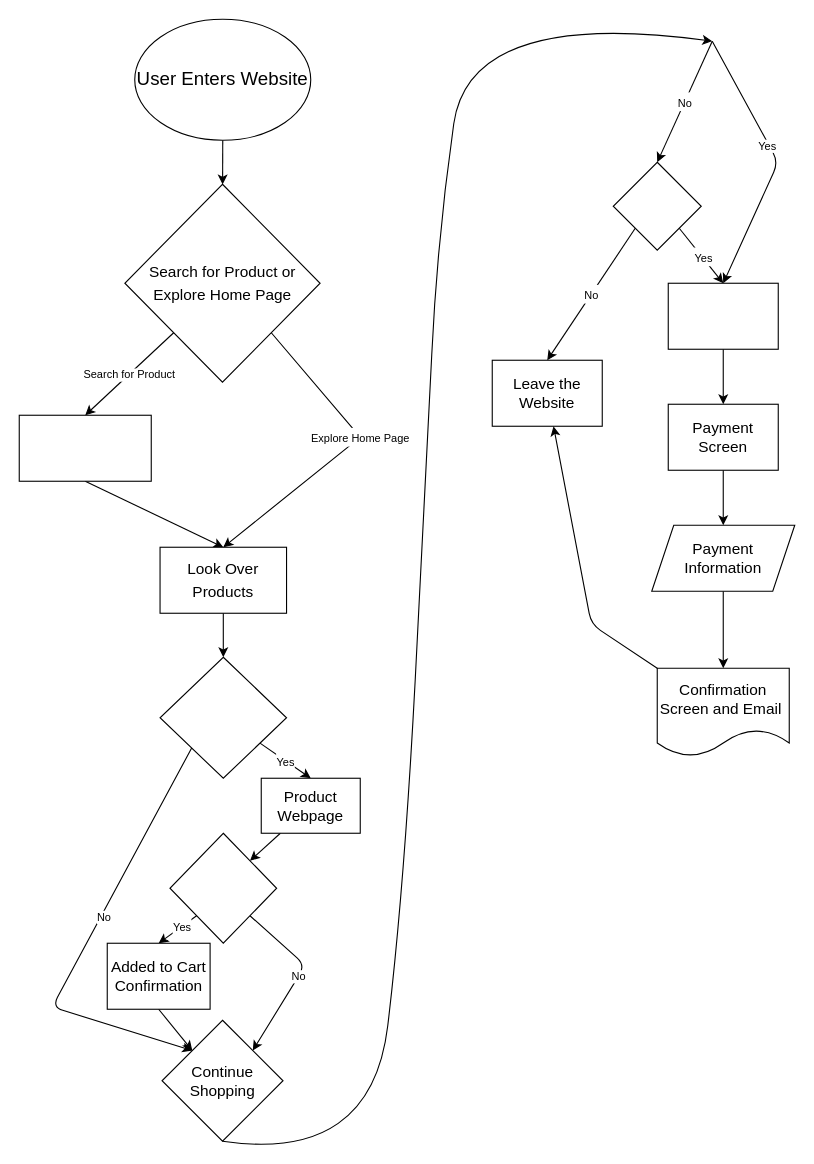
This 814x1164 diagram has some shape labels left out. Each missing label, with the box of its shape:
Add To Cart: (169, 832, 277, 943)
Checkout: (612, 161, 701, 250)
Provide Input Into Search Bar: (18, 414, 151, 481)
View Cart Screen: (667, 282, 778, 349)
View Specific Product: (159, 656, 287, 778)
